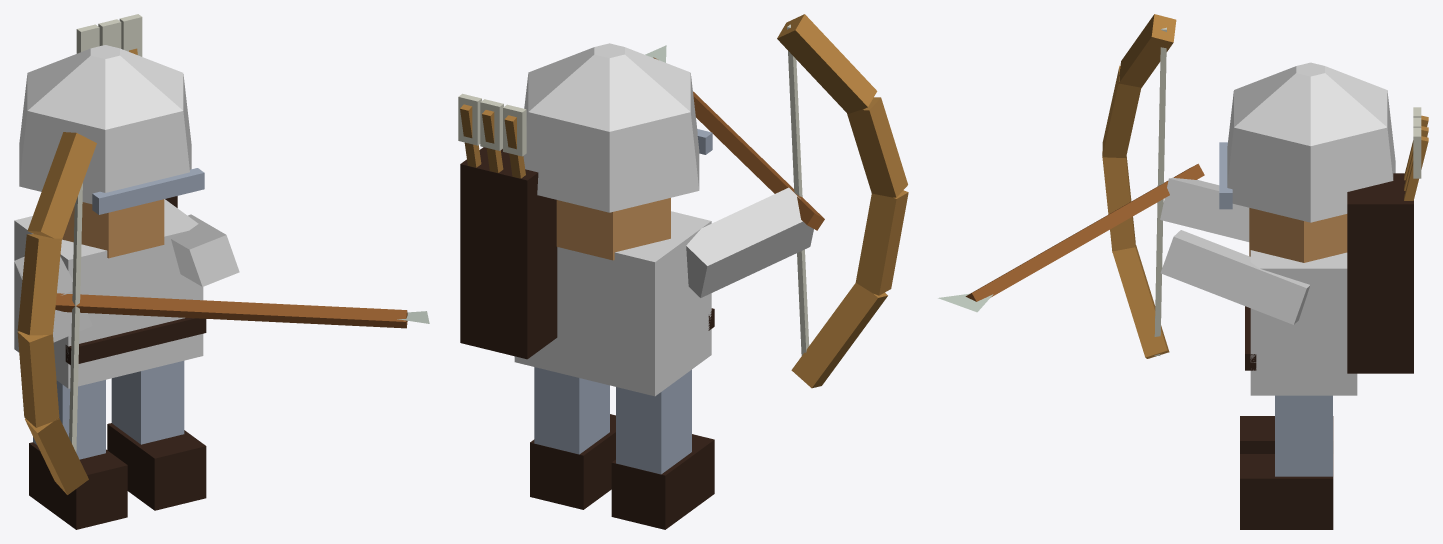
Rendered from archer_blue.fbx.
The picture shows the model from 3 angles, left to right: view 1: azimuth 30°, elevation 25°; view 2: azimuth 150°, elevation 25°; view 3: azimuth 270°, elevation 25°; orthographic projection. The views are drawn at different scales.
Visible parts, largest first — view 1: archer_blue; view 2: archer_blue; view 3: archer_blue.
Part boxes in pixels (left/top/right/bottom): archer_blue: left=14, top=14, right=429, bottom=529; archer_blue: left=458, top=14, right=908, bottom=529; archer_blue: left=938, top=14, right=1428, bottom=529.
Size of the model in its own units: 0.5699 by 0.7164 by 0.7368.
